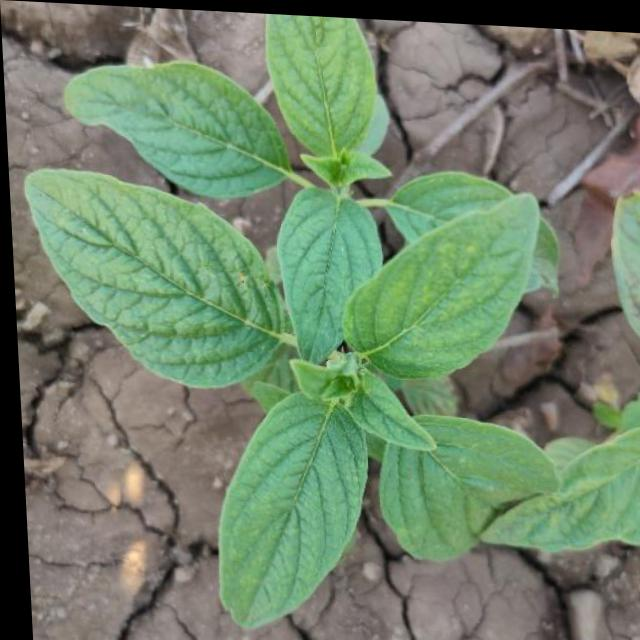crop: (19, 2, 640, 640)
